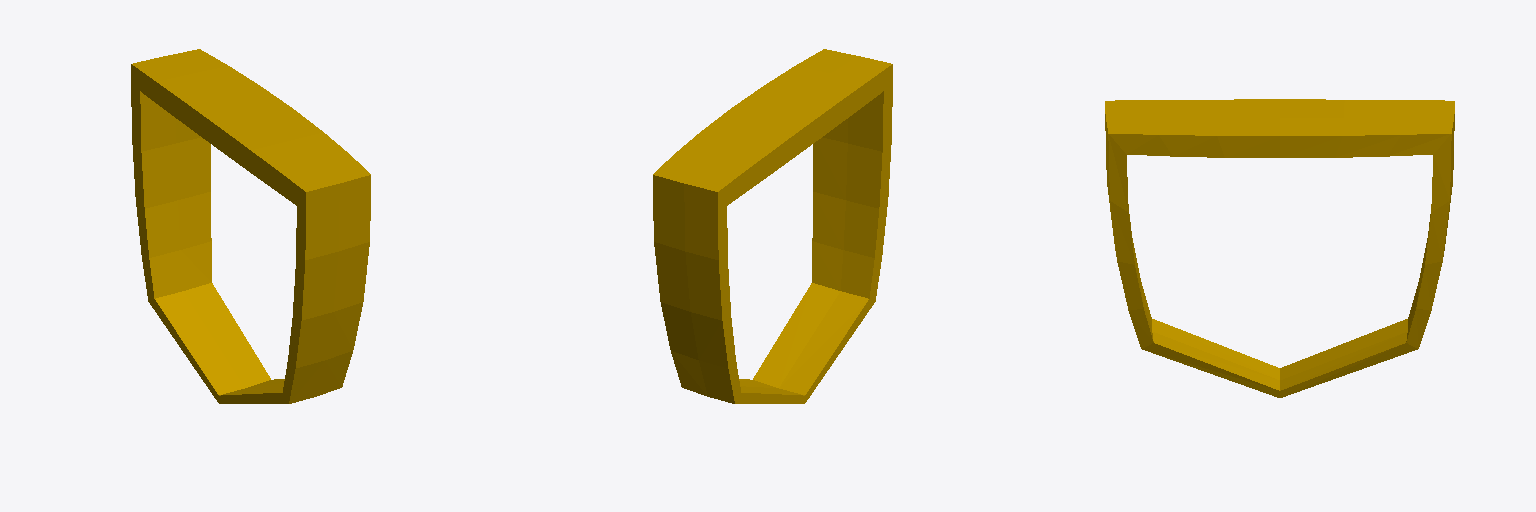
File: interact.obj
3 views of the same model, side by side, from view 1: azimuth 30°, elevation 25°; view 2: azimuth 150°, elevation 25°; view 3: azimuth 270°, elevation 25° (orthographic).
Parts seen in each view (by area): view 1: Interact_Cube.001; view 2: Interact_Cube.001; view 3: Interact_Cube.001.
Part boxes in pixels (x1,y1,x2,y2): Interact_Cube.001: (131, 49, 370, 403); Interact_Cube.001: (653, 49, 892, 403); Interact_Cube.001: (1105, 99, 1454, 397).
Size of the model in its own units: 0.3726 by 1.32 by 1.51.